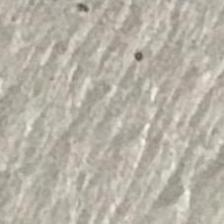Non_Crack: (24, 68, 200, 190)
